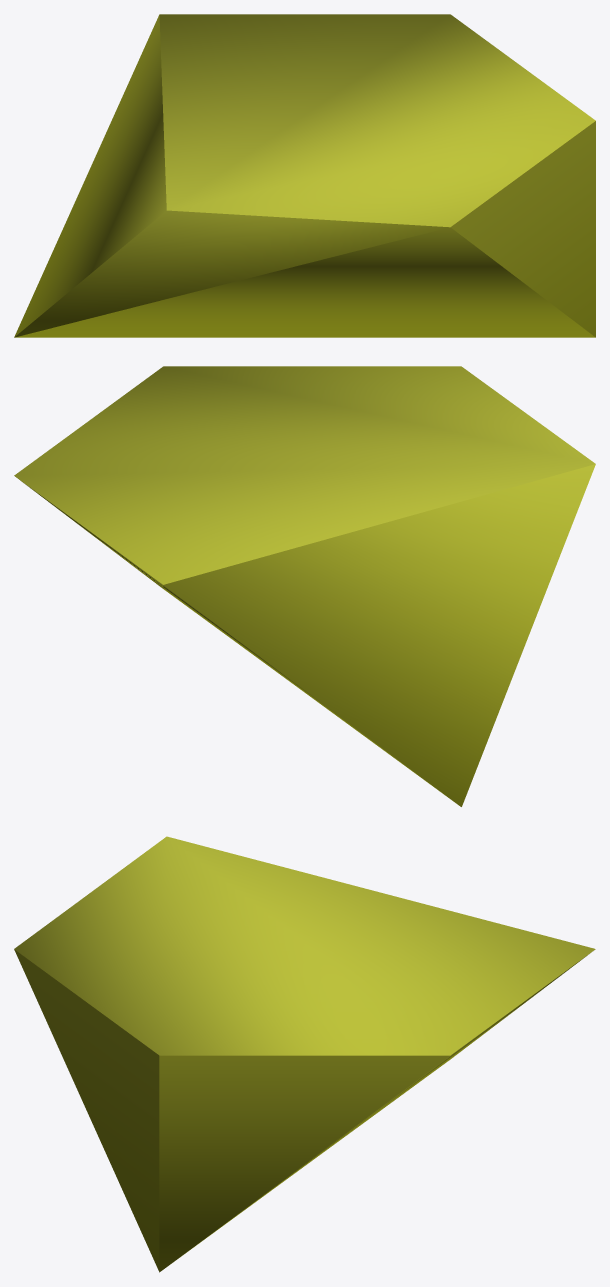
File: hex_grass-small.glb
3 renders of one model, top to bottom at view 1: azimuth 30°, elevation 25°; view 2: azimuth 150°, elevation 25°; view 3: azimuth 270°, elevation 25°, orthographic. The views are drawn at different scales.
Visible parts, largest first — view 1: hex_grass; view 2: hex_grass; view 3: hex_grass.
Boxes of the visible parts, x1=… form: hex_grass: x1=14, y1=14, x2=595, y2=337; hex_grass: x1=14, y1=366, x2=595, y2=806; hex_grass: x1=14, y1=836, x2=595, y2=1272.
Size of the model in its own units: 2 by 1 by 2.31.
1 material, 1 textured.
